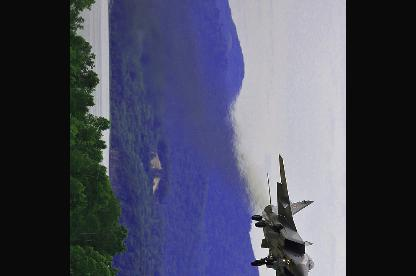Mig31: (252, 153, 317, 275)
